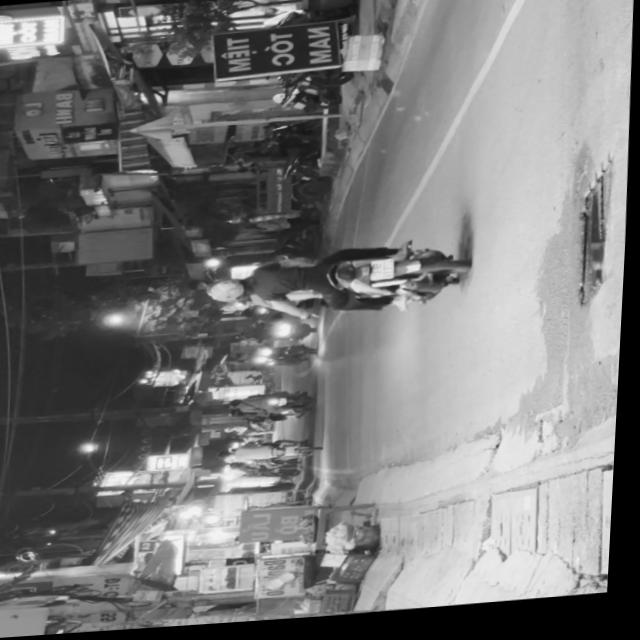helmet: (208, 280, 251, 306)
licenseplate: (203, 239, 469, 330)
nohelmet: (371, 263, 395, 284)
